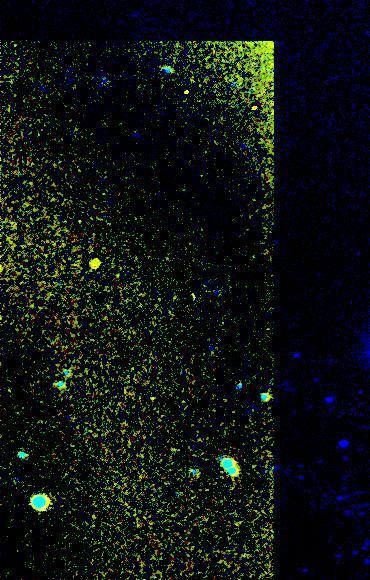star: (78, 249, 108, 279)
